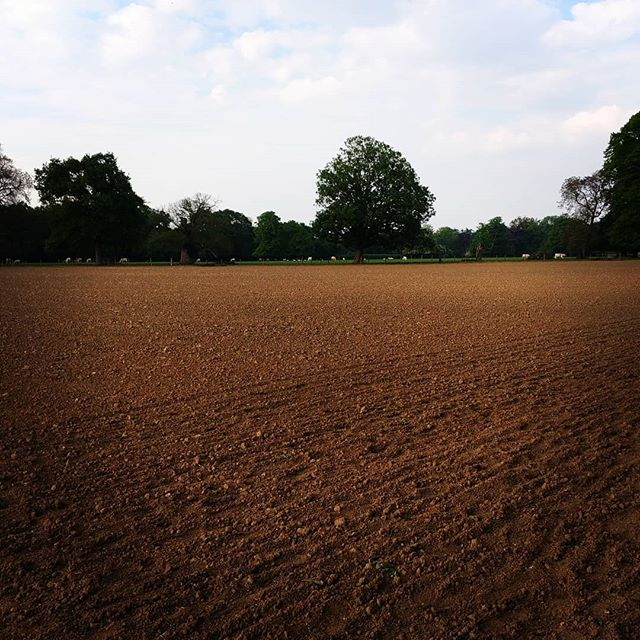dirt: (13, 283, 640, 640)
sky: (32, 1, 640, 183)
tree: (308, 136, 422, 266), (39, 147, 148, 266), (599, 119, 640, 252), (165, 195, 225, 266), (554, 173, 606, 249), (252, 205, 296, 261), (466, 214, 516, 255)
